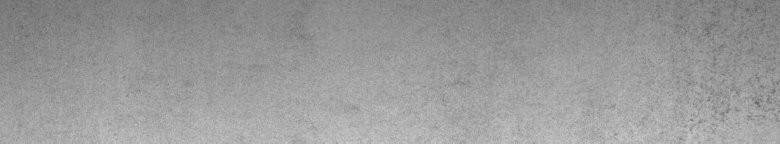ib: (681, 4, 776, 136)
